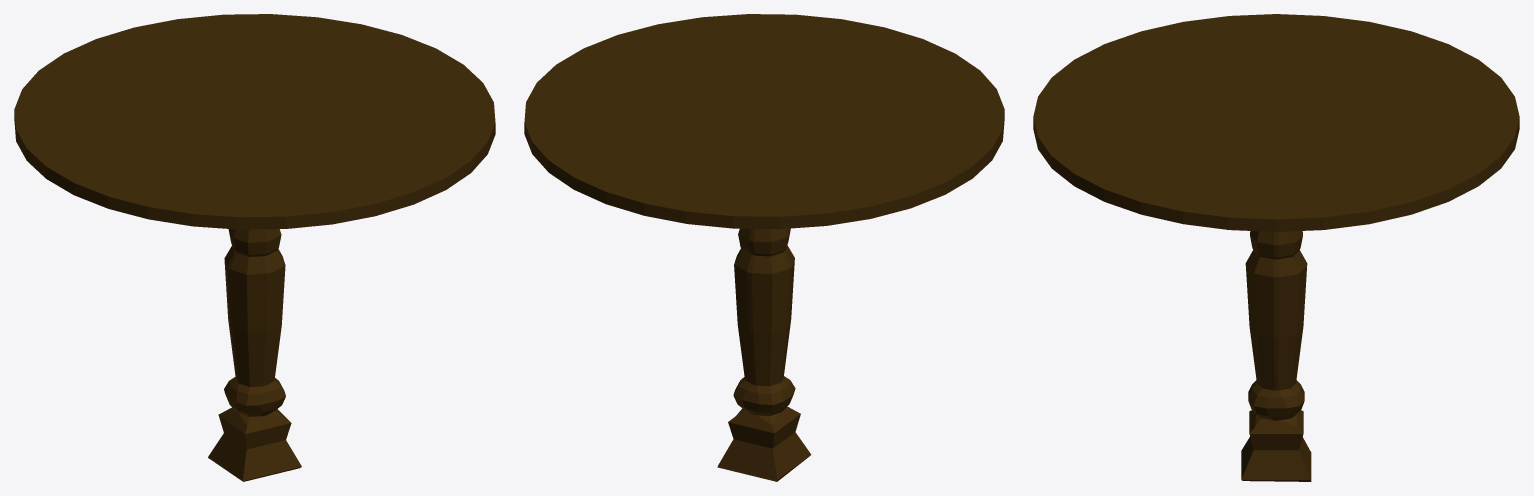
The model's file is Small table.fbx.
3 views of the same model, side by side, from view 1: azimuth 30°, elevation 25°; view 2: azimuth 150°, elevation 25°; view 3: azimuth 270°, elevation 25° (orthographic).
Parts seen in each view (by area): view 1: Small table; view 2: Small table; view 3: Small table.
Boxes of the visible parts, x1=… form: Small table: x1=14, y1=14, x2=495, y2=481; Small table: x1=524, y1=14, x2=1004, y2=481; Small table: x1=1033, y1=14, x2=1519, y2=481.
Size of the model in its own units: 204 by 163 by 204.
